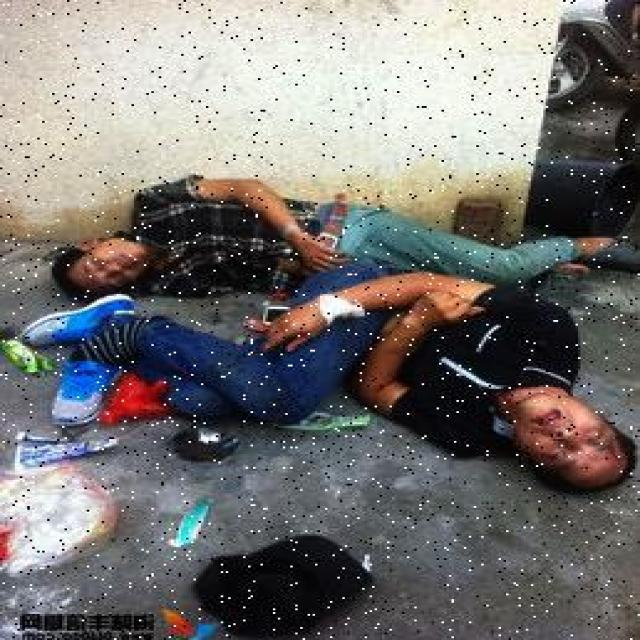fall: (39, 296, 636, 498), (50, 175, 638, 294)
